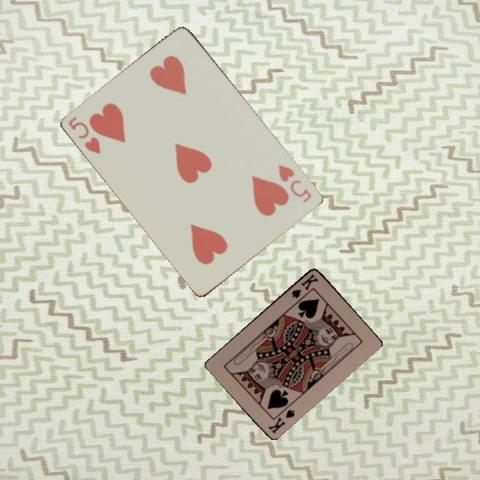5h: (276, 161, 314, 204), (65, 113, 103, 156)
Ks: (265, 406, 296, 435), (289, 271, 320, 299)
